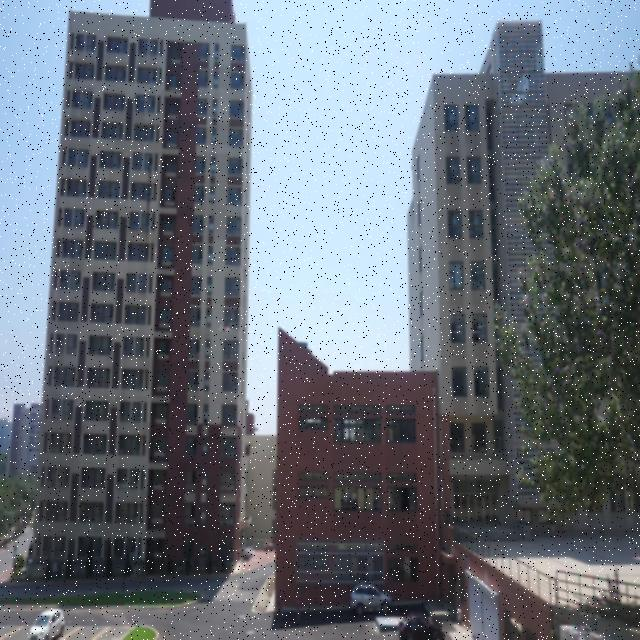UAV: (219, 325, 230, 336)
